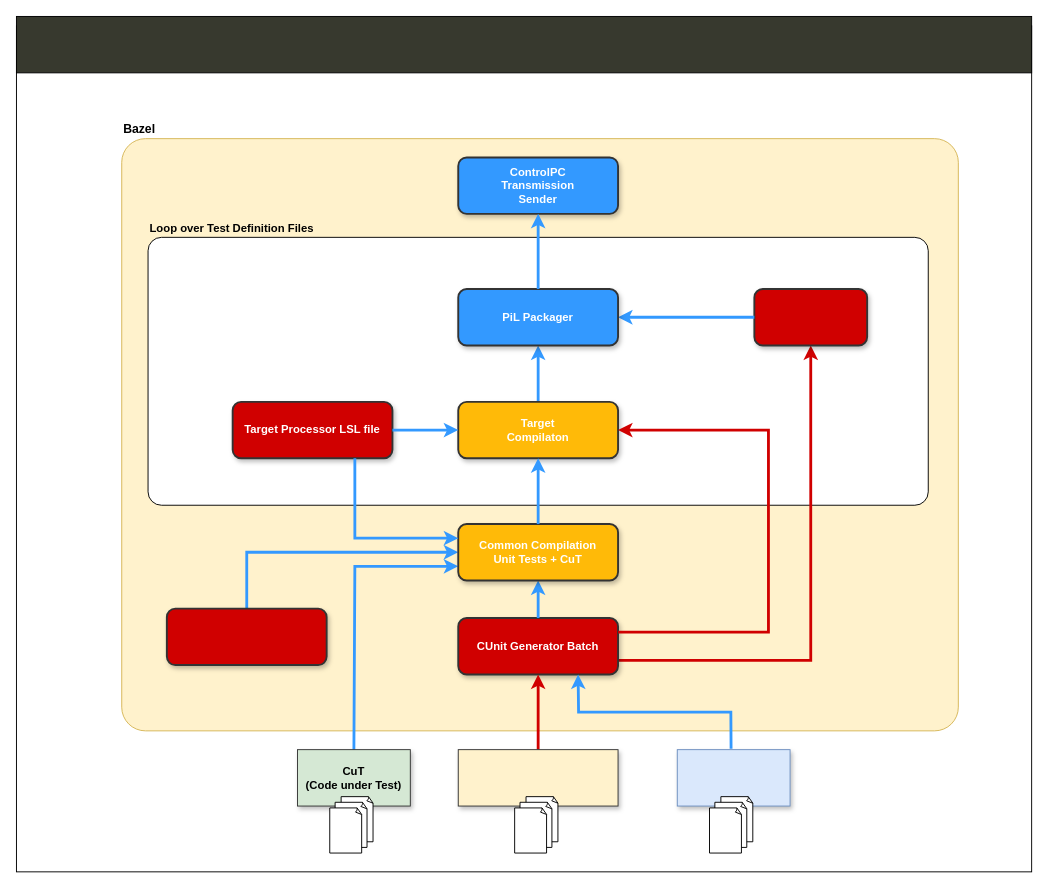
The diagram is 1048 pixels wide and 888 high, and some of its shapes have lost their labels. Here are the shapes that lost their labels. From the top down, the centre of each, then its label:
At (x=524, y=44): "PiL Batch v2".
At (x=811, y=318): "Test Map File".
At (x=247, y=637): "PiL Main Target Process".
At (x=539, y=779): "Unit Tests (Only CUnit that run on PIL)".
At (x=734, y=779): "PiL Tests Definition Files".
